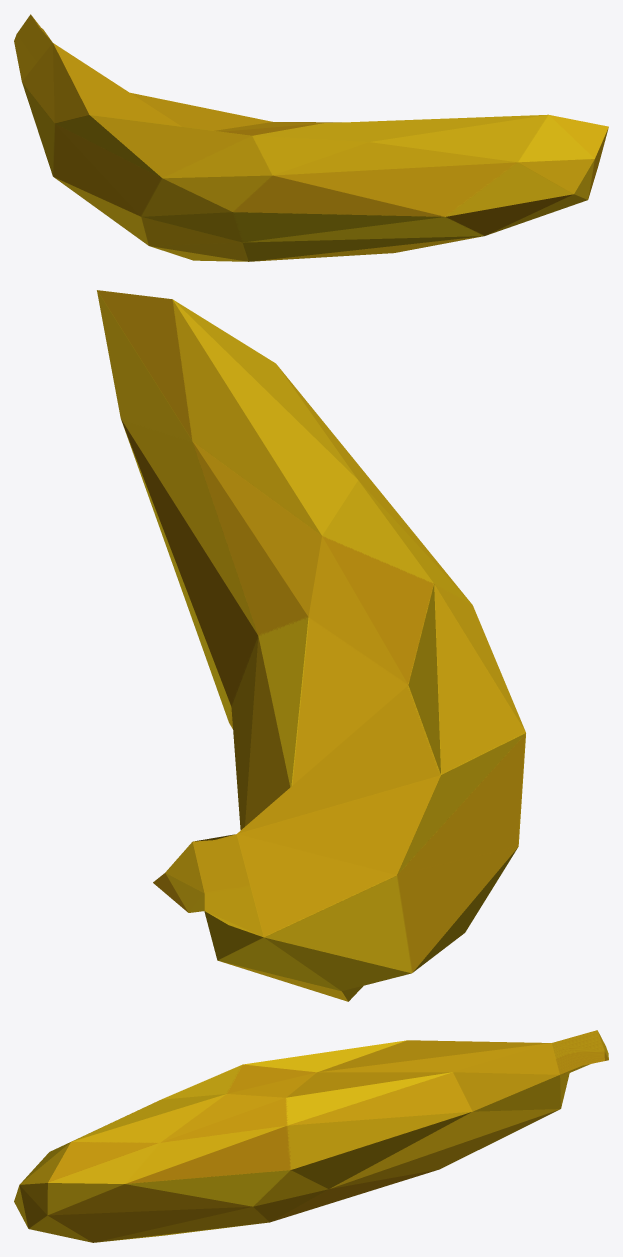
File: banana.fbx
The picture shows the model from 3 angles, top to bottom: view 1: azimuth 30°, elevation 25°; view 2: azimuth 150°, elevation 25°; view 3: azimuth 270°, elevation 25°; orthographic projection. The views are drawn at different scales.
Visible parts, largest first — view 1: Icosphere; view 2: Icosphere; view 3: Icosphere.
Boxes of the visible parts, <box> form: Icosphere: <box>14,14,608,261</box>; Icosphere: <box>97,290,525,1001</box>; Icosphere: <box>14,1030,608,1242</box>.
Bounding box in the file's own units: 446 × 208 × 621.
